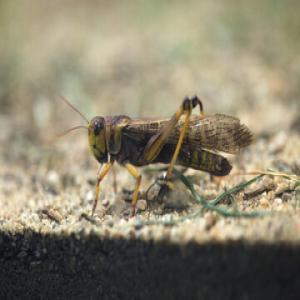locust: (61, 96, 270, 187)
